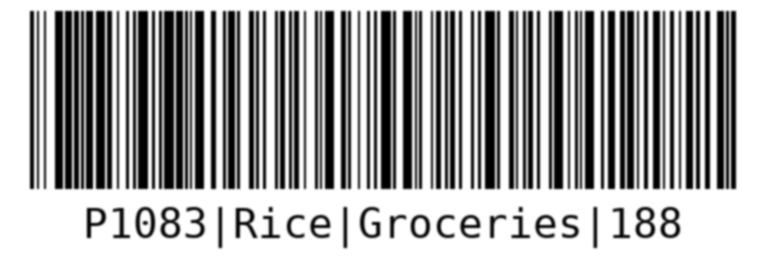milk: (23, 10, 748, 253)
